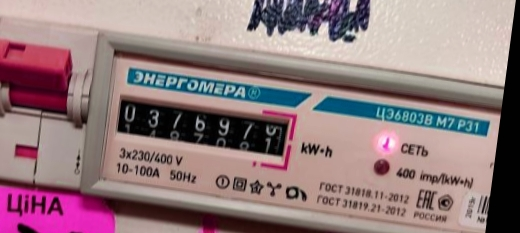0: (121, 102, 137, 123)
1: (260, 135, 274, 154)
3: (145, 107, 160, 128)
6: (192, 110, 207, 133)
7: (239, 118, 254, 142), (168, 108, 183, 130)
9: (215, 115, 230, 138)
screen: (105, 85, 301, 172)
